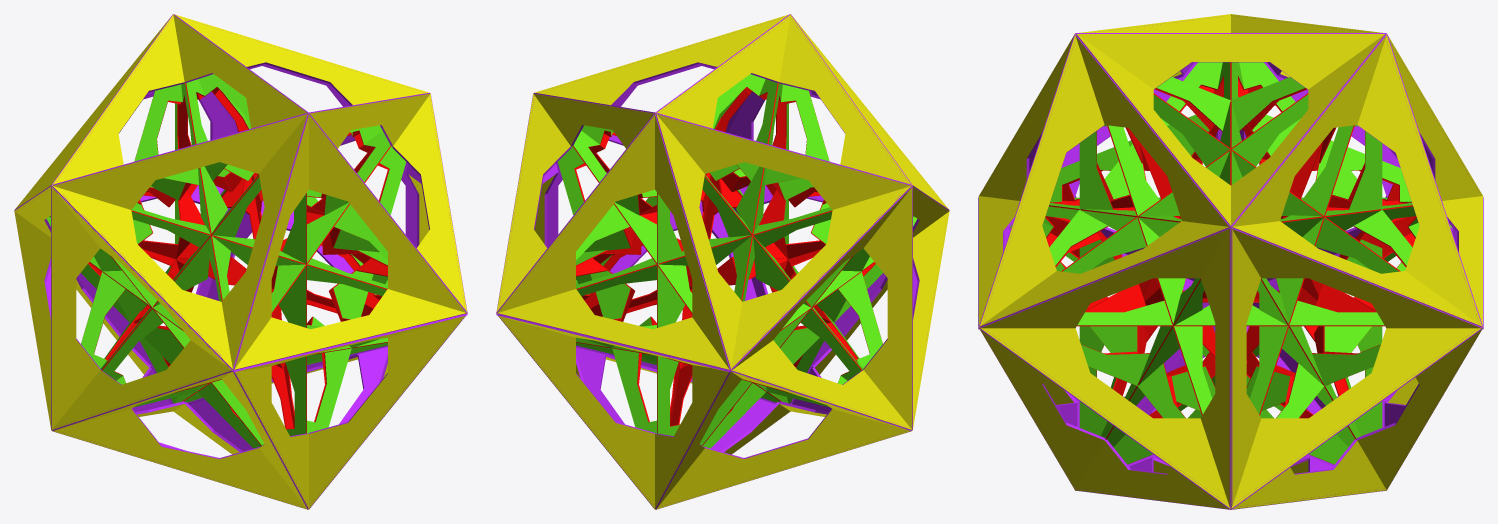
File: GreatDodecahedronS3.glb
3 renders of one model, left to right at view 1: azimuth 30°, elevation 25°; view 2: azimuth 150°, elevation 25°; view 3: azimuth 270°, elevation 25°, orthographic. The views are drawn at different scales.
Parts seen in each view (by area): view 1: Mesh_0004_1, Mesh_0001_1, Mesh_0004, Mesh_0001; view 2: Mesh_0004_1, Mesh_0001_1, Mesh_0004, Mesh_0001; view 3: Mesh_0004_1, Mesh_0001_1, Mesh_0001, Mesh_0004.
Part boxes in pixels (x1,y1,x2,y2): Mesh_0004_1: (14,14,467,509); Mesh_0001_1: (46,74,406,448); Mesh_0004: (14,14,467,509); Mesh_0001: (82,82,391,445); Mesh_0004_1: (496,14,949,509); Mesh_0001_1: (557,74,917,448); Mesh_0004: (496,14,949,509); Mesh_0001: (572,82,882,445); Mesh_0004_1: (978,14,1483,509); Mesh_0001_1: (1010,62,1451,464); Mesh_0001: (1010,62,1451,464); Mesh_0004: (978,16,1483,509).
Bounding box in the file's own units: 7.74 × 7.74 × 7.75.
